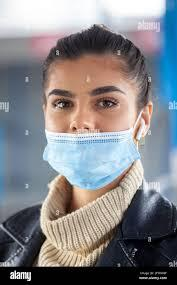mask_weared_incorrect: (35, 38, 145, 188)
